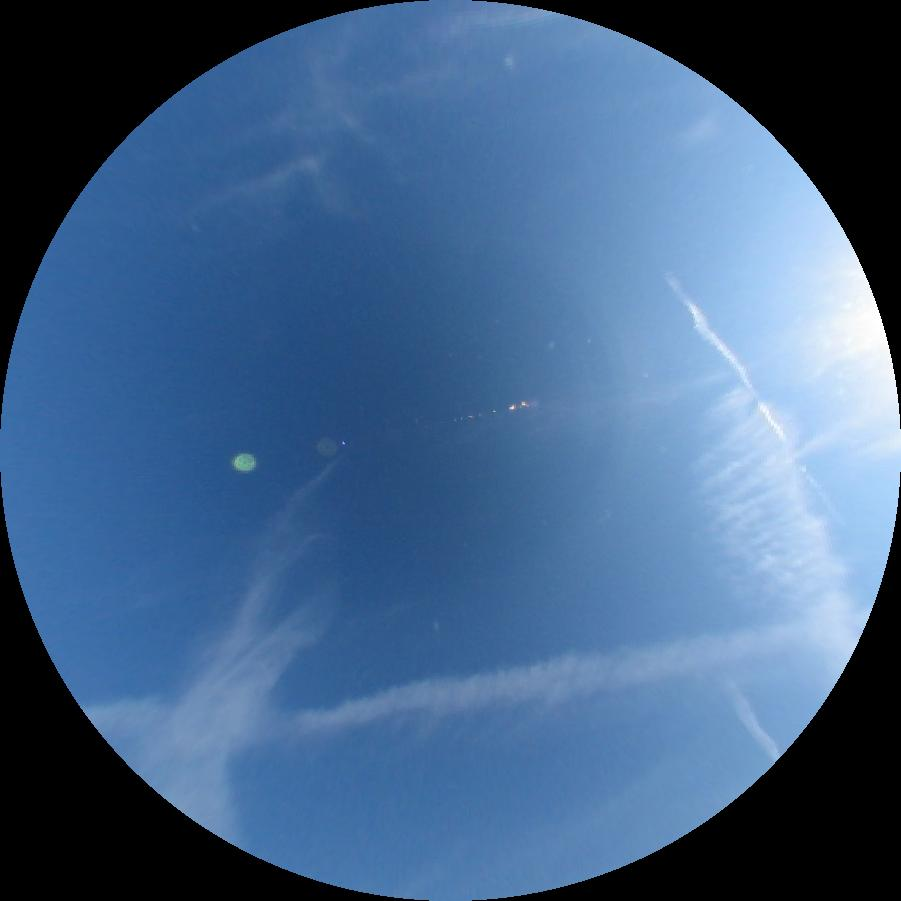contrail old: (662, 272, 844, 524), (732, 691, 780, 764)
contrail veryold: (235, 616, 798, 745), (690, 383, 865, 683)
